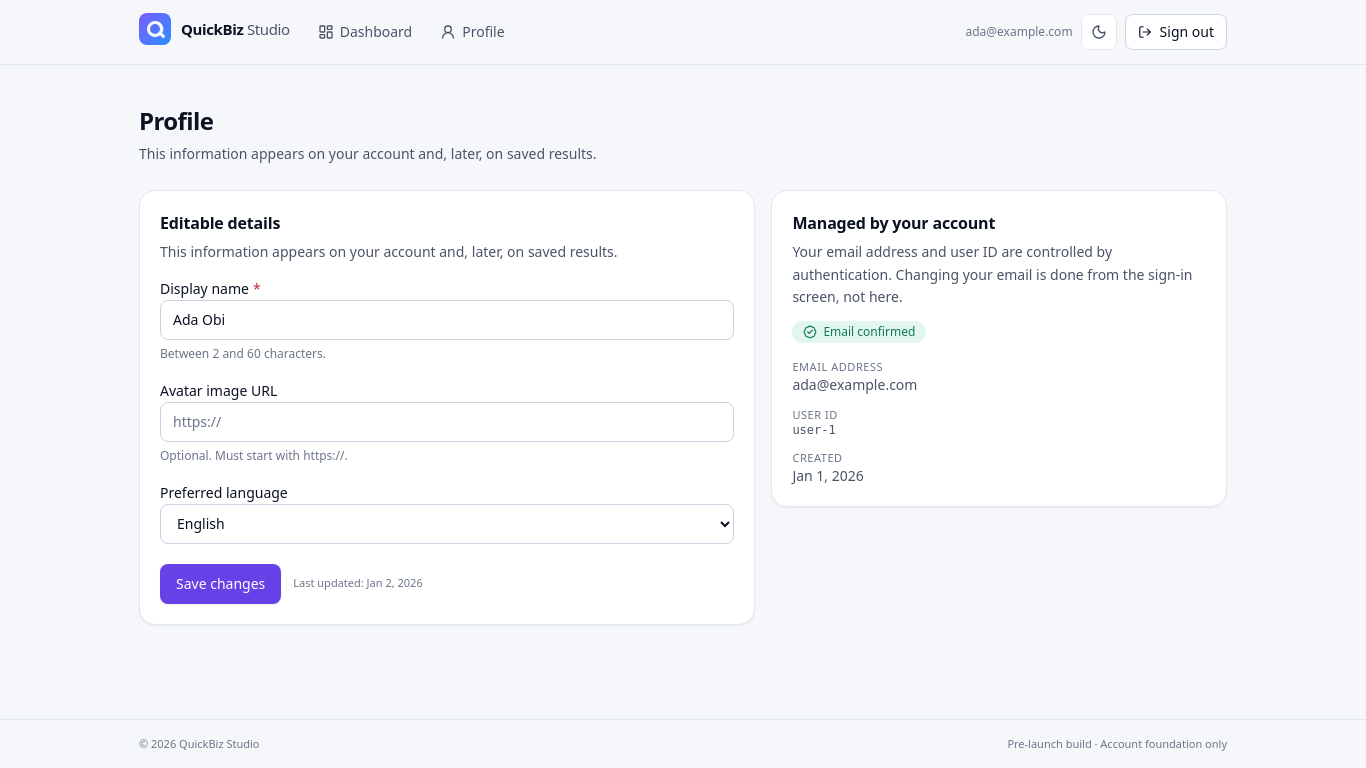
Test case: ProfilePage › rejects a display name that is too short
Replace the text in the field showing "Ada Obi" with "A". click: [447, 320]
box: [160, 300, 734, 340]
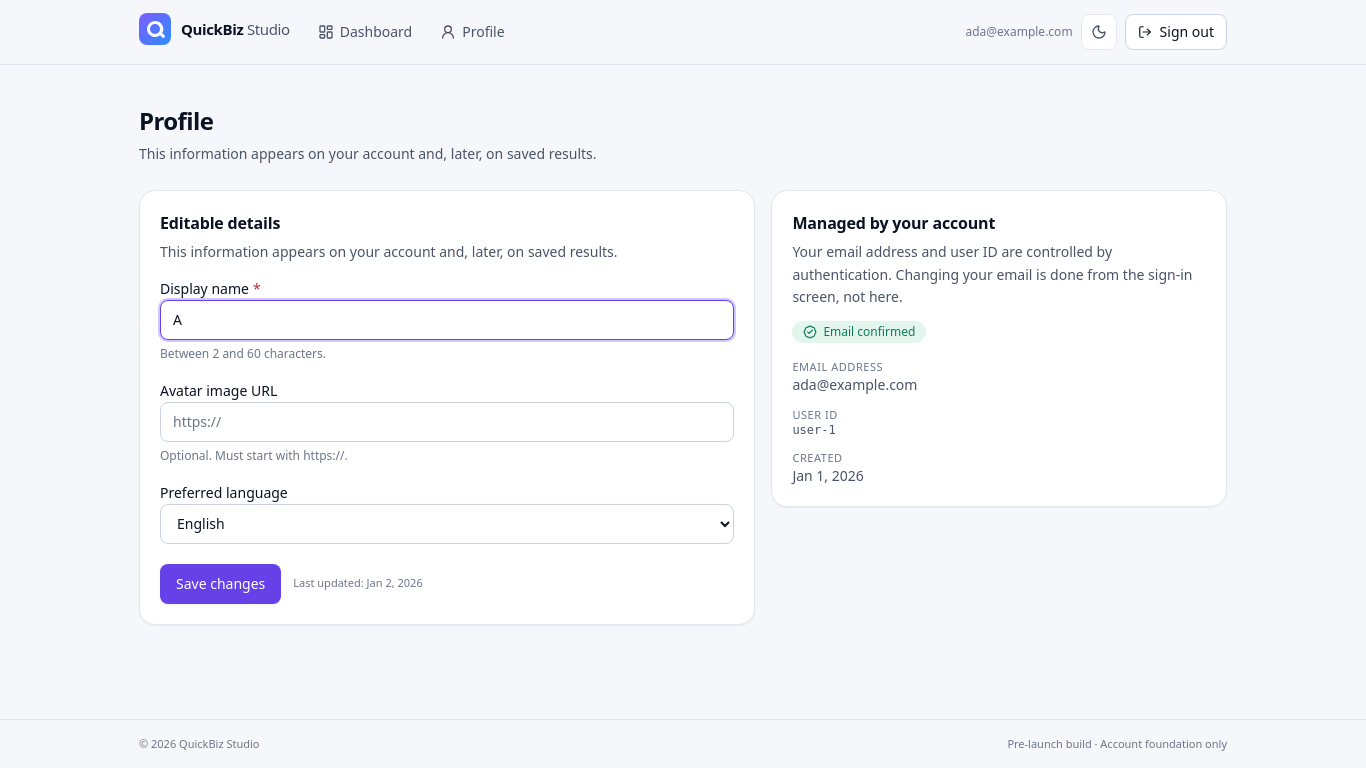
Click the button "Save changes". click: [221, 584]
box: [160, 564, 281, 604]
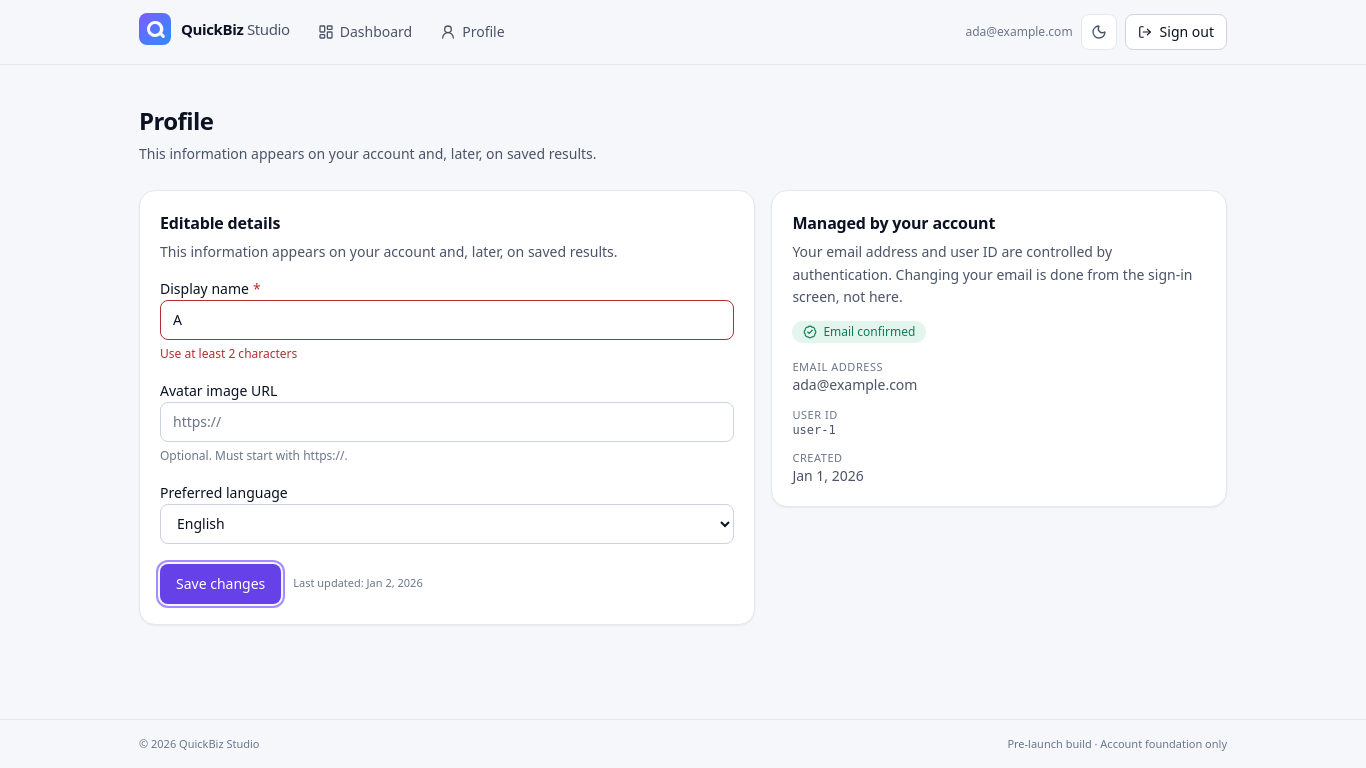
Check: the text "Use at least 2 characters" is shown, box [160, 344, 297, 362]
